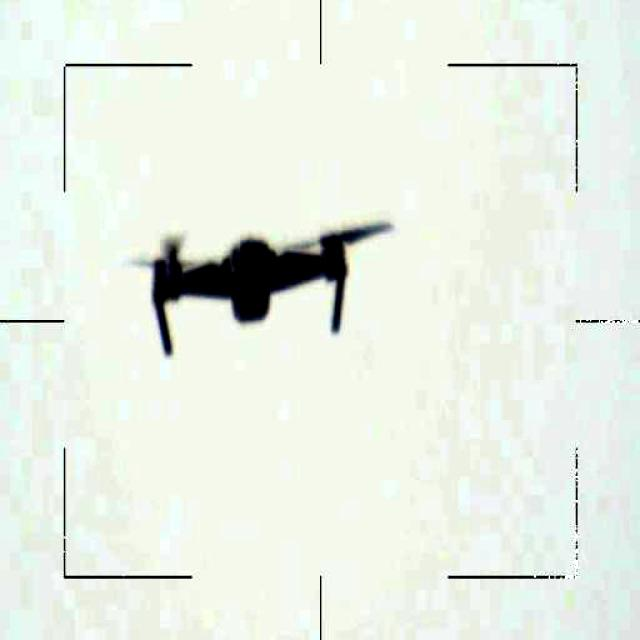bird: (114, 216, 392, 360)
